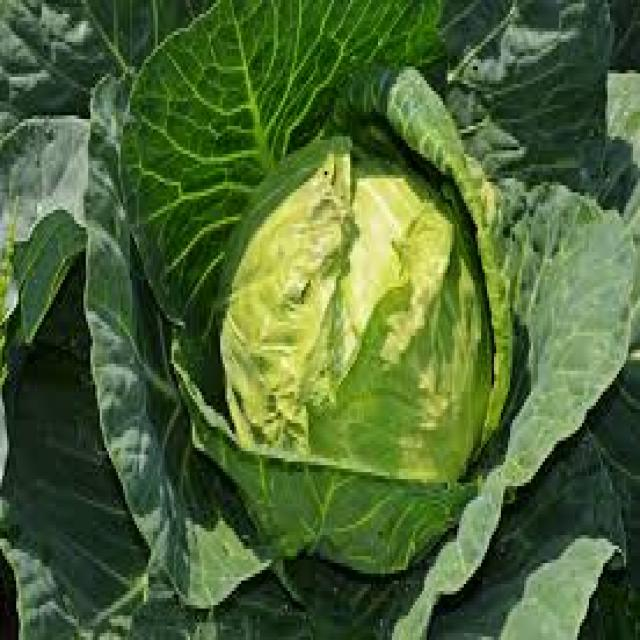organic waste: (0, 0, 638, 637), (213, 126, 492, 573)
